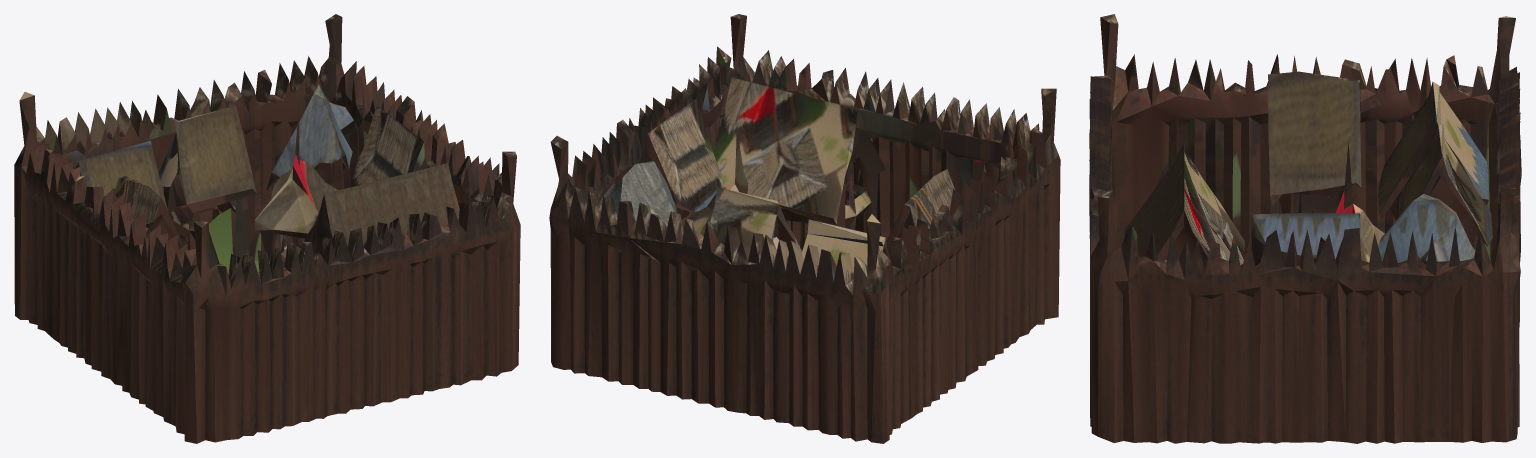
File: palmares_fortaleza.glb
3 views of the same model, side by side, from view 1: azimuth 30°, elevation 25°; view 2: azimuth 150°, elevation 25°; view 3: azimuth 270°, elevation 25° (orthographic). The views are drawn at different scales.
Visible parts, largest first — view 1: geometry_0; view 2: geometry_0; view 3: geometry_0.
Boxes of the visible parts, x1=… form: geometry_0: x1=14, y1=14, x2=520, y2=443; geometry_0: x1=549, y1=14, x2=1060, y2=443; geometry_0: x1=1089, y1=14, x2=1521, y2=443.
Size of the model in its own units: 3.4 by 2.19 by 3.36.
1 material, 1 textured.
